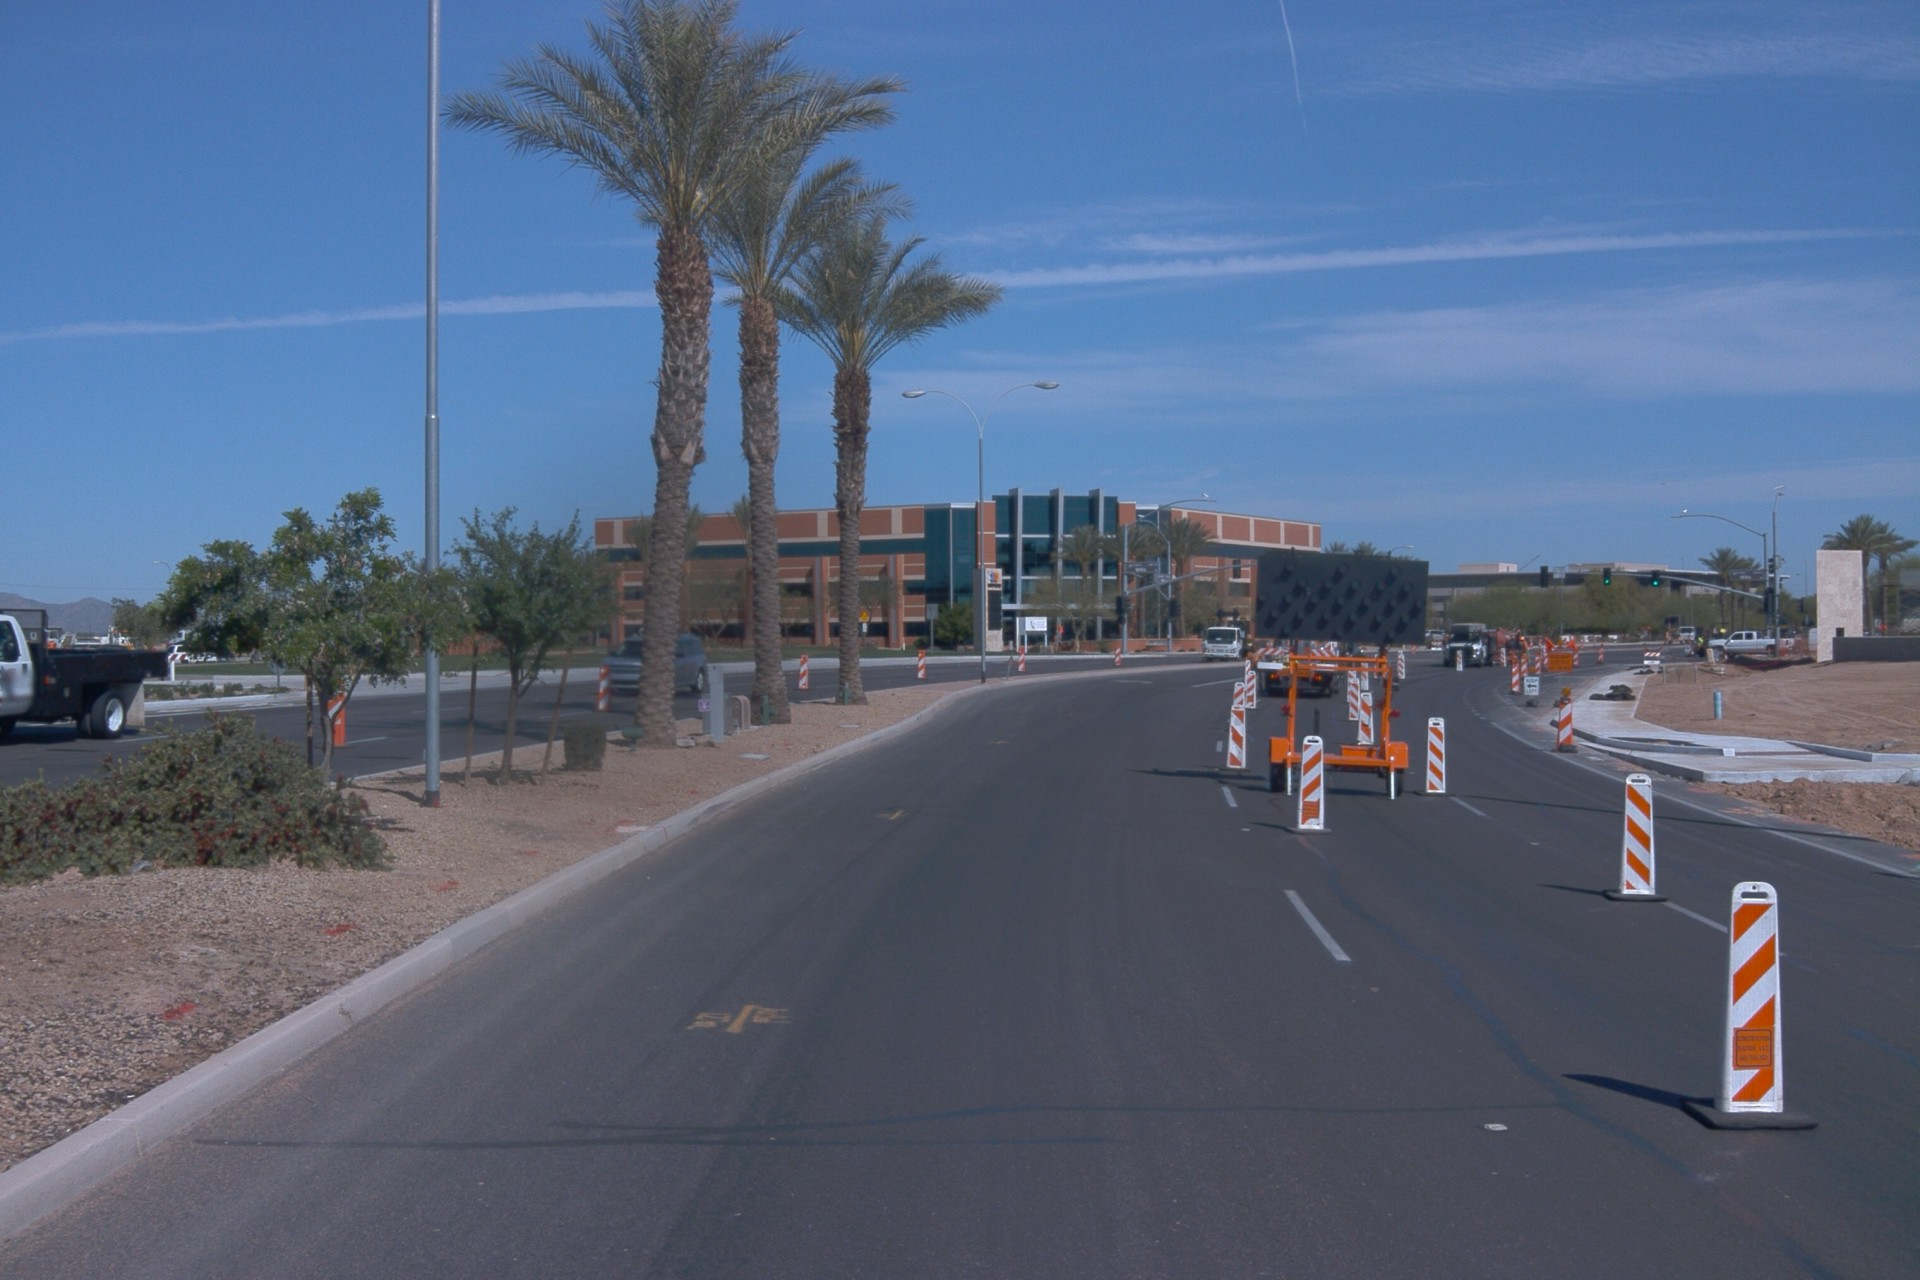TYPE_PEDESTRIAN: (1245, 641, 1260, 677)
TYPE_VEHICLE: (1239, 537, 1441, 814), (0, 610, 185, 750), (1239, 639, 1357, 702), (599, 633, 707, 699), (1437, 620, 1522, 669), (1706, 626, 1796, 663), (1194, 626, 1253, 668), (164, 644, 226, 669), (1422, 627, 1451, 648), (1676, 622, 1705, 643)
